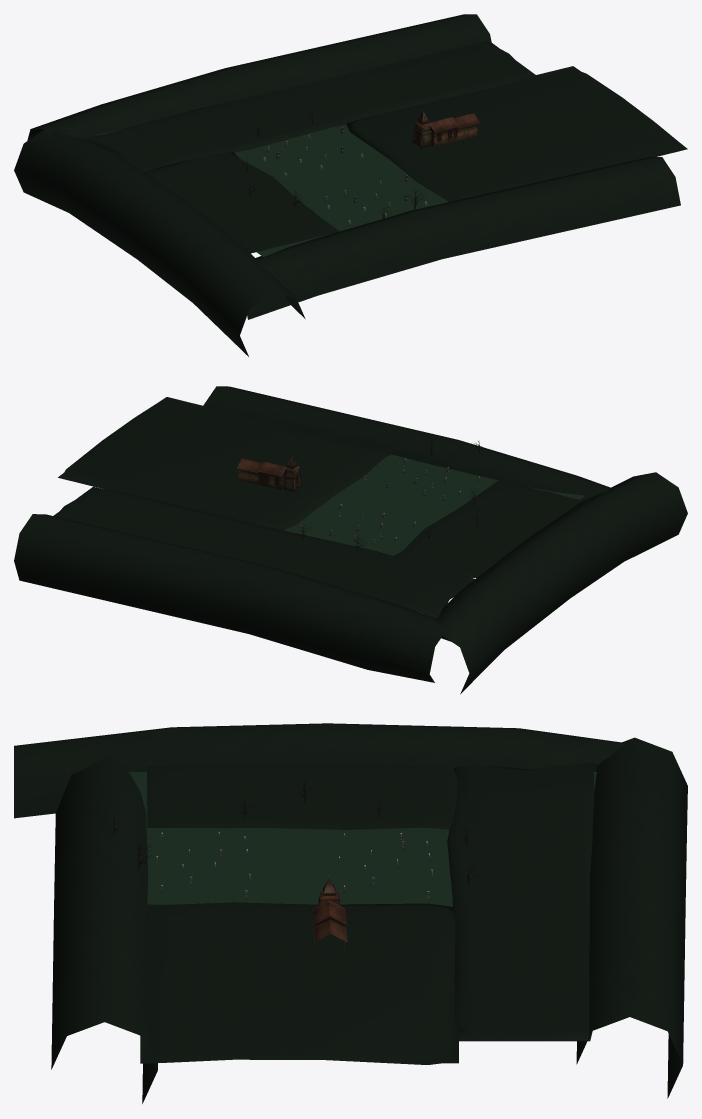
Rendered from grave.fbx.
The picture shows the model from 3 angles, top to bottom: view 1: azimuth 30°, elevation 25°; view 2: azimuth 150°, elevation 25°; view 3: azimuth 270°, elevation 25°; orthographic projection. The views are drawn at different scales.
Visible parts, largest first — view 1: polySurface1718, pCylinder3, pCylinder1, pCylinder2, pPlane2, polySurface2240; view 2: polySurface1718, pCylinder2, pCylinder1, pCylinder3, pPlane2, polySurface2240; view 3: polySurface1718, pCylinder2, pCylinder1, pCylinder3, pPlane2, polySurface2240.
Part boxes in pixels (box(x1,y1,x2,y2)): polySurface1718: box(82, 41, 687, 253); pCylinder3: box(247, 157, 680, 319); pCylinder1: box(14, 130, 305, 356); pCylinder2: box(27, 14, 491, 140); pPlane2: box(96, 124, 447, 256); polySurface2240: box(412, 111, 480, 148); polySurface1718: box(53, 397, 583, 618); pCylinder2: box(14, 514, 452, 682); pCylinder1: box(435, 472, 687, 694); pCylinder3: box(203, 386, 610, 500); pPlane2: box(283, 454, 584, 614); polySurface2240: box(236, 455, 302, 492); polySurface1718: box(140, 763, 597, 1064); pCylinder2: box(576, 737, 687, 1098); pCylinder1: box(14, 723, 625, 818); pCylinder3: box(51, 755, 157, 1103); pPlane2: box(129, 772, 596, 906); polySurface2240: box(312, 871, 347, 958).
Size of the model in its own units: 826 by 158 by 696.
